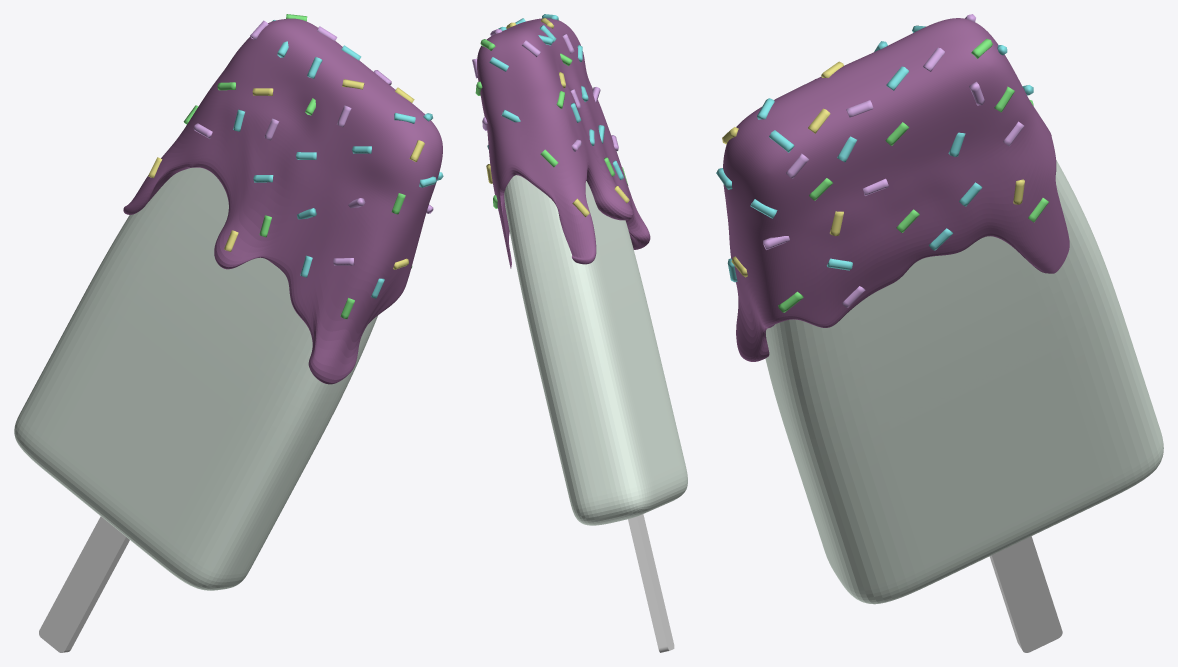
The model's file is icecream_vanilla.fbx.
3 views of the same model, side by side, from view 1: azimuth 30°, elevation 25°; view 2: azimuth 150°, elevation 25°; view 3: azimuth 270°, elevation 25° (orthographic). The views are drawn at different scales.
Visible parts, largest first — view 1: ice cream.001, cream.001, wood.001; view 2: ice cream.001, cream.001, wood.001; view 3: ice cream.001, cream.001, wood.001.
Part boxes in pixels (x1,y1,x2,y2): ice cream.001: [14, 167, 377, 590]; cream.001: [123, 18, 442, 384]; wood.001: [39, 516, 129, 652]; ice cream.001: [504, 175, 687, 525]; cream.001: [477, 18, 650, 268]; wood.001: [628, 514, 674, 652]; ice cream.001: [765, 159, 1163, 604]; cream.001: [723, 18, 1069, 361]; wood.001: [989, 536, 1062, 652].
Size of the model in its own units: 229 by 460 by 251.
